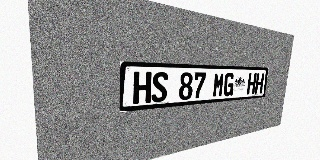7: (192, 72, 206, 99)
8: (178, 72, 194, 100)
G: (223, 73, 235, 97)
H: (133, 72, 152, 104), (246, 73, 257, 95), (254, 73, 264, 94)
M: (212, 73, 225, 97)
S: (151, 72, 168, 103)
